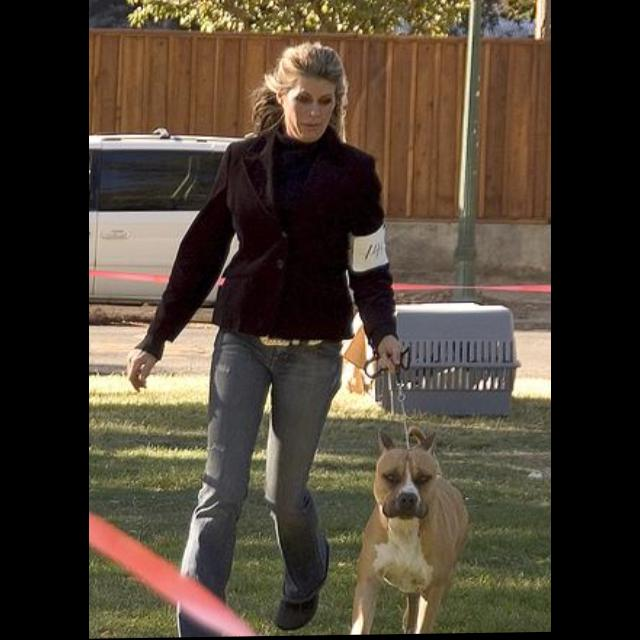amstaff: (338, 426, 471, 637)
face: (282, 69, 341, 144)
person: (126, 37, 405, 639)
